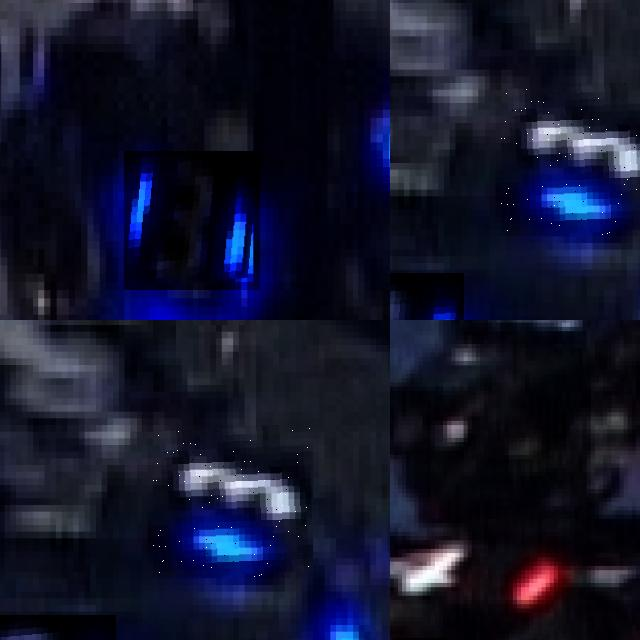B3: (153, 425, 313, 578), (501, 82, 640, 236), (124, 151, 260, 290)
